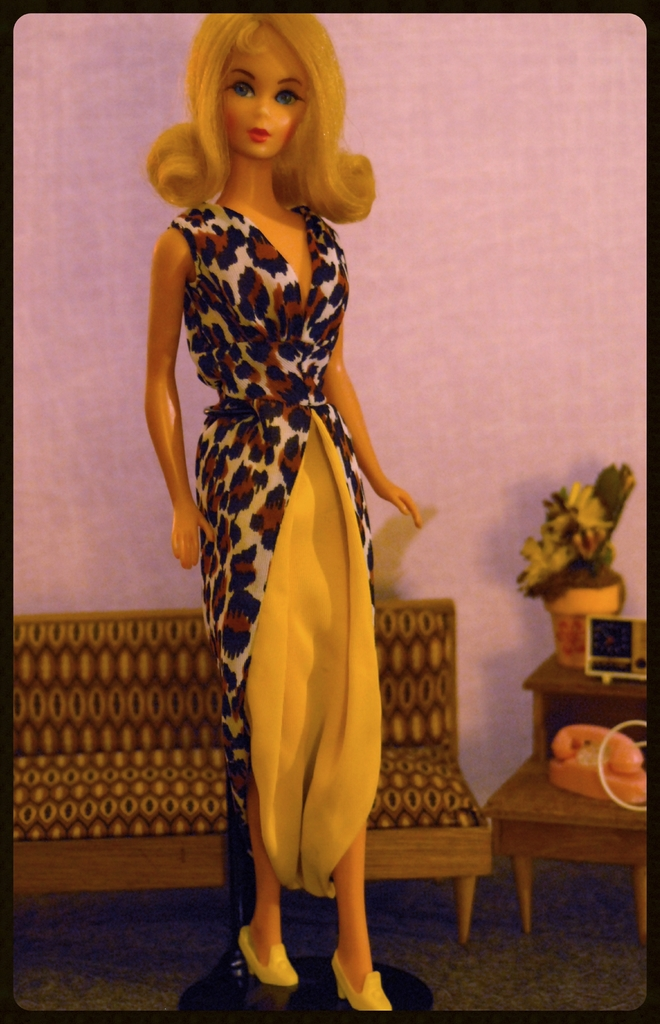Footwear: (232, 933, 311, 1006), (336, 953, 390, 1012)
